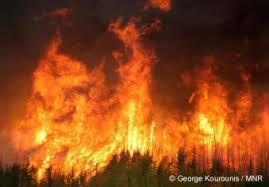fire: (13, 11, 246, 167)
